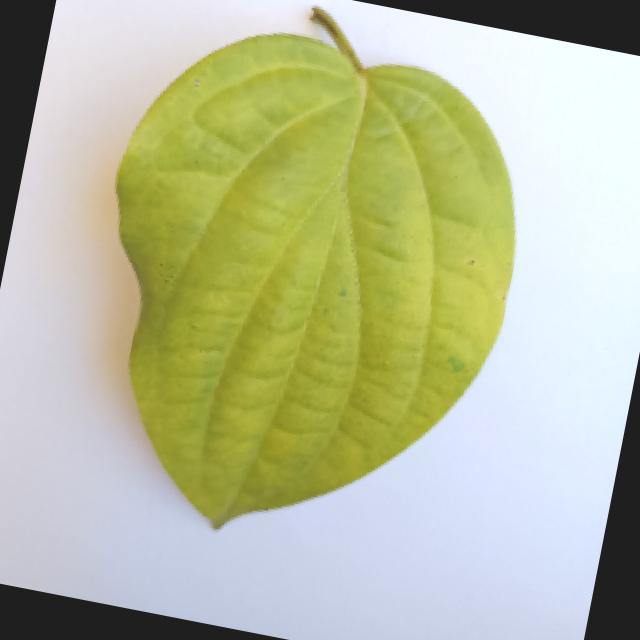slow-decline: (23, 0, 573, 583)
